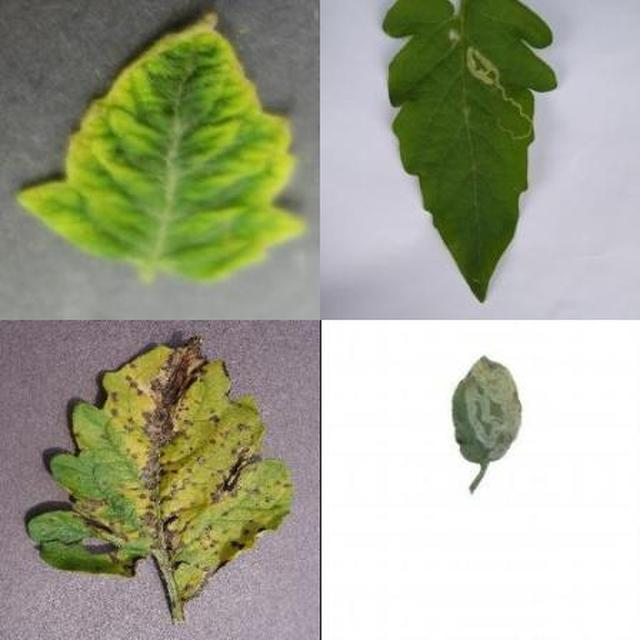Yellow Leaf Curl Virus: (102, 157, 640, 640)
